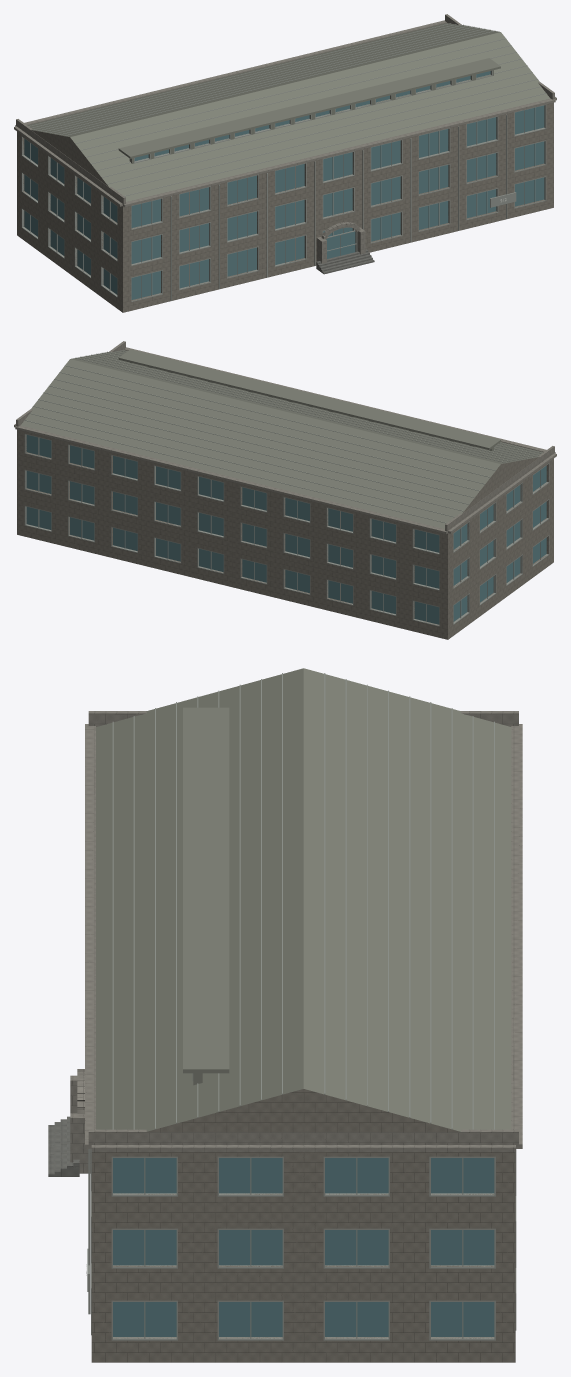
3 views of the same model, one above another, from view 1: azimuth 30°, elevation 25°; view 2: azimuth 150°, elevation 25°; view 3: azimuth 270°, elevation 25° (orthographic). The views are drawn at different scales.
Parts seen in each view (by area): view 1: billingsley__roof, billingsley__stone, billingsley__glass, billingsley__frame, billingsley__cream, billingsley__rough; view 2: billingsley__roof, billingsley__stone, billingsley__glass, billingsley__frame, billingsley__cream; view 3: billingsley__roof, billingsley__stone, billingsley__glass, billingsley__cream, billingsley__frame, billingsley__rough.
Boxes of the visible parts, bbox=[...] form: billingsley__roof: bbox=[28, 23, 549, 201]; billingsley__stone: bbox=[17, 102, 553, 312]; billingsley__glass: bbox=[24, 71, 544, 299]; billingsley__frame: bbox=[21, 23, 546, 301]; billingsley__cream: bbox=[14, 14, 556, 263]; billingsley__rough: bbox=[316, 249, 374, 274]; billingsley__roof: bbox=[21, 349, 542, 528]; billingsley__stone: bbox=[17, 429, 553, 639]; billingsley__glass: bbox=[26, 435, 546, 624]; billingsley__frame: bbox=[24, 350, 549, 626]; billingsley__cream: bbox=[14, 341, 556, 534]; billingsley__roof: bbox=[96, 668, 511, 1131]; billingsley__stone: bbox=[91, 1089, 515, 1362]; billingsley__glass: bbox=[113, 1158, 494, 1336]; billingsley__cream: bbox=[70, 711, 522, 1173]; billingsley__frame: bbox=[87, 673, 516, 1340]; billingsley__rough: bbox=[48, 1116, 79, 1176].
Size of the model in its own units: 45.74 by 13.7 by 21.49.
Materials: 7 (3 with a texture image).
